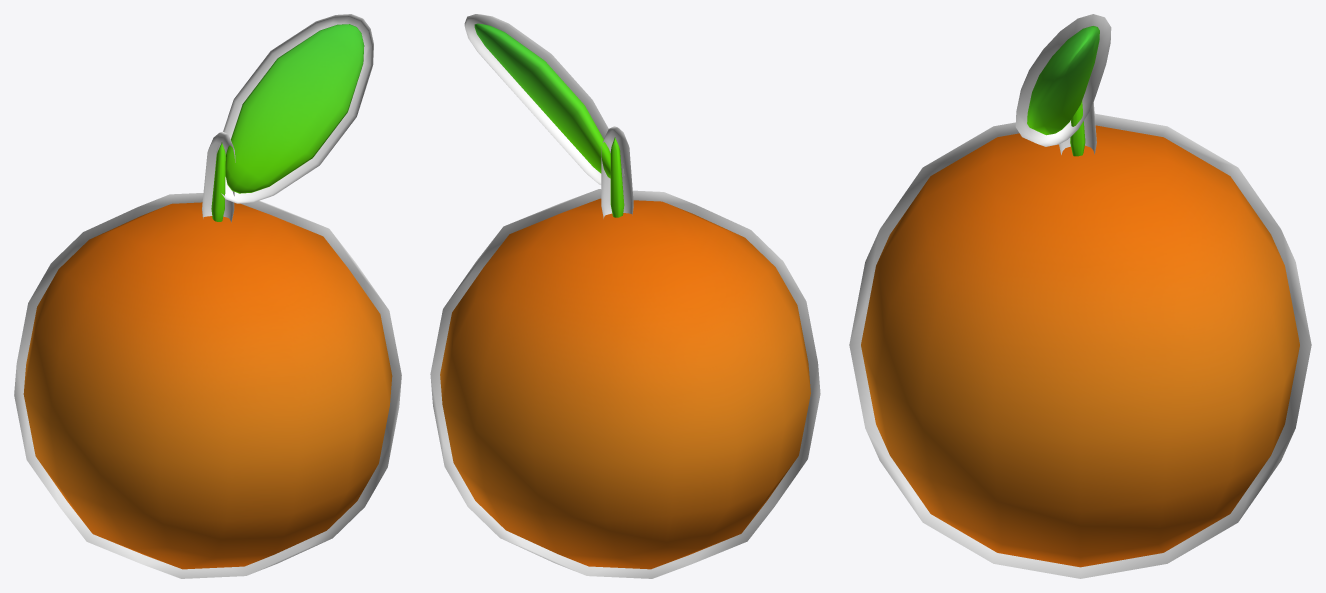
The model's file is orange.gltf.
The picture shows the model from 3 angles, left to right: view 1: azimuth 30°, elevation 25°; view 2: azimuth 150°, elevation 25°; view 3: azimuth 270°, elevation 25°; orthographic projection. The views are drawn at different scales.
Parts seen in each view (by area): view 1: Orange_Cube.004; view 2: Orange_Cube.004; view 3: Orange_Cube.004.
Part boxes in pixels (left/top/right/bottom): Orange_Cube.004: left=14, top=14, right=401, bottom=578; Orange_Cube.004: left=430, top=14, right=820, bottom=578; Orange_Cube.004: left=849, top=14, right=1311, bottom=578.
Size of the model in its own units: 0.6875 by 1 by 0.6875.
Materials: 1 (1 with a texture image).
